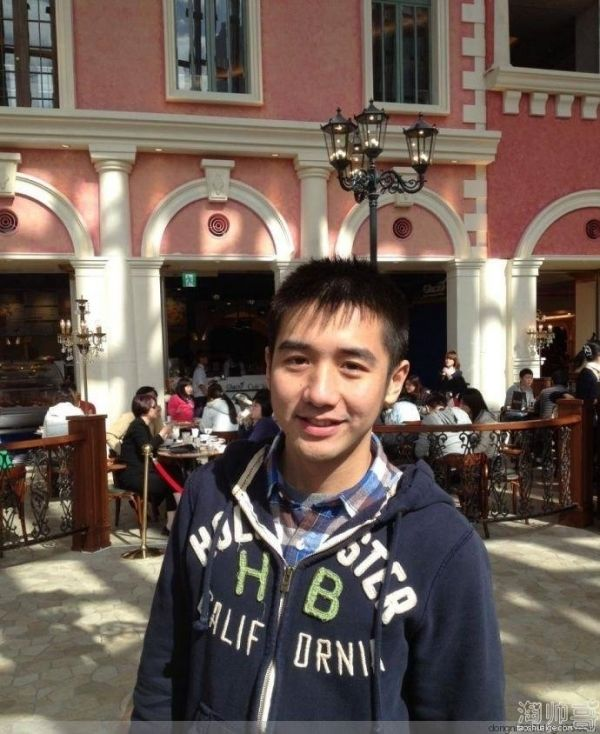person: (190, 293, 543, 734)
